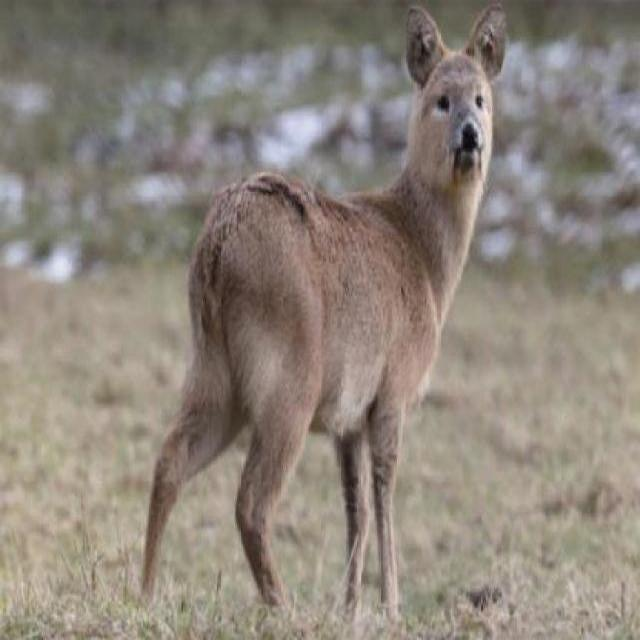deer: (131, 0, 517, 637)
